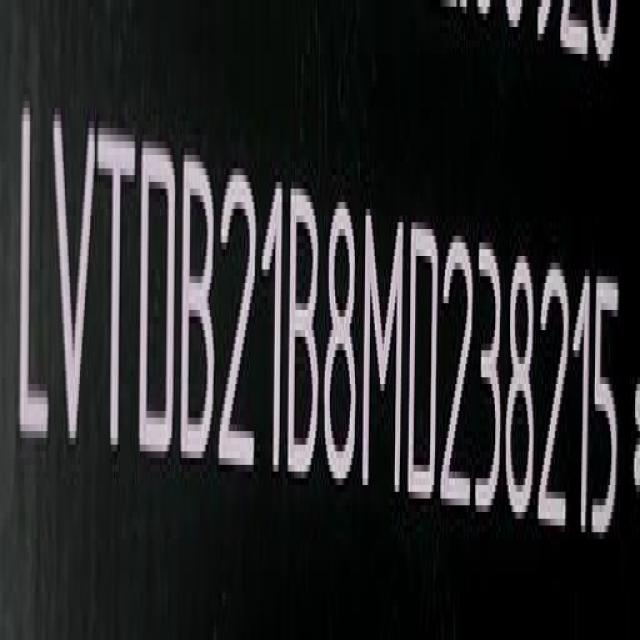1: (261, 168, 287, 486), (574, 262, 593, 540)
2: (219, 161, 258, 483), (538, 256, 574, 536), (443, 228, 476, 517)
3: (477, 236, 504, 520)
5: (595, 266, 623, 540)
8: (326, 196, 358, 493), (507, 250, 537, 526)
B: (182, 148, 219, 474), (288, 178, 322, 484)
D: (137, 134, 178, 469), (409, 212, 442, 508)
L: (12, 101, 50, 461)
M: (361, 200, 403, 500)
T: (98, 120, 135, 464)
V: (48, 102, 96, 469)
